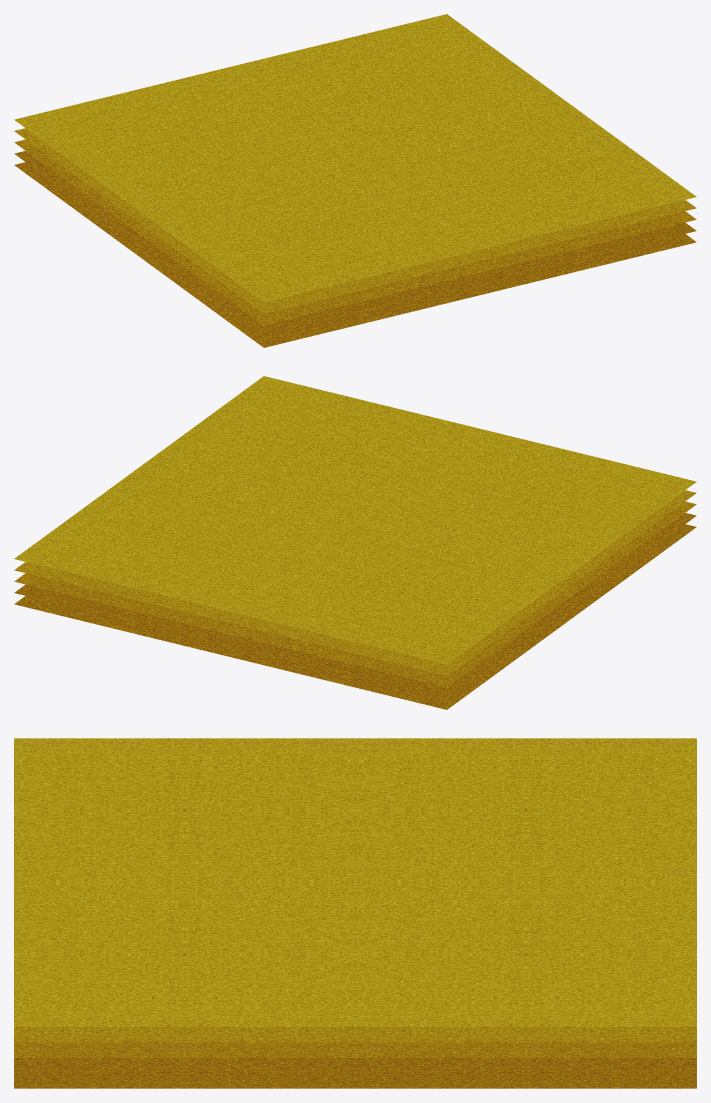
File: graan_1.fbx
The picture shows the model from 3 angles, top to bottom: view 1: azimuth 30°, elevation 25°; view 2: azimuth 150°, elevation 25°; view 3: azimuth 270°, elevation 25°; orthographic projection. The views are drawn at different scales.
Visible parts, largest first — view 1: graan; view 2: graan; view 3: graan.
Boxes of the visible parts, x1,y1,x2,y2 form: graan: (14, 14, 696, 347); graan: (14, 376, 696, 709); graan: (14, 738, 696, 1088).
Bounding box in the file's own units: 2000 × 200 × 2000.
1 material, 1 textured.
